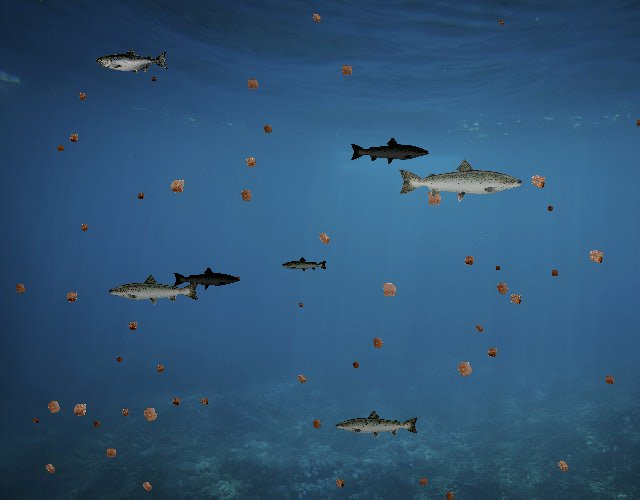Fish: (396, 157, 525, 203), (108, 273, 202, 307), (334, 409, 420, 440), (350, 136, 431, 165), (97, 49, 170, 75), (173, 266, 241, 290), (282, 257, 329, 274)
Pellet: (163, 172, 191, 200), (312, 227, 336, 251), (234, 184, 258, 208), (239, 151, 262, 174), (10, 278, 31, 299), (76, 220, 92, 236), (544, 202, 557, 215), (29, 415, 41, 427)
